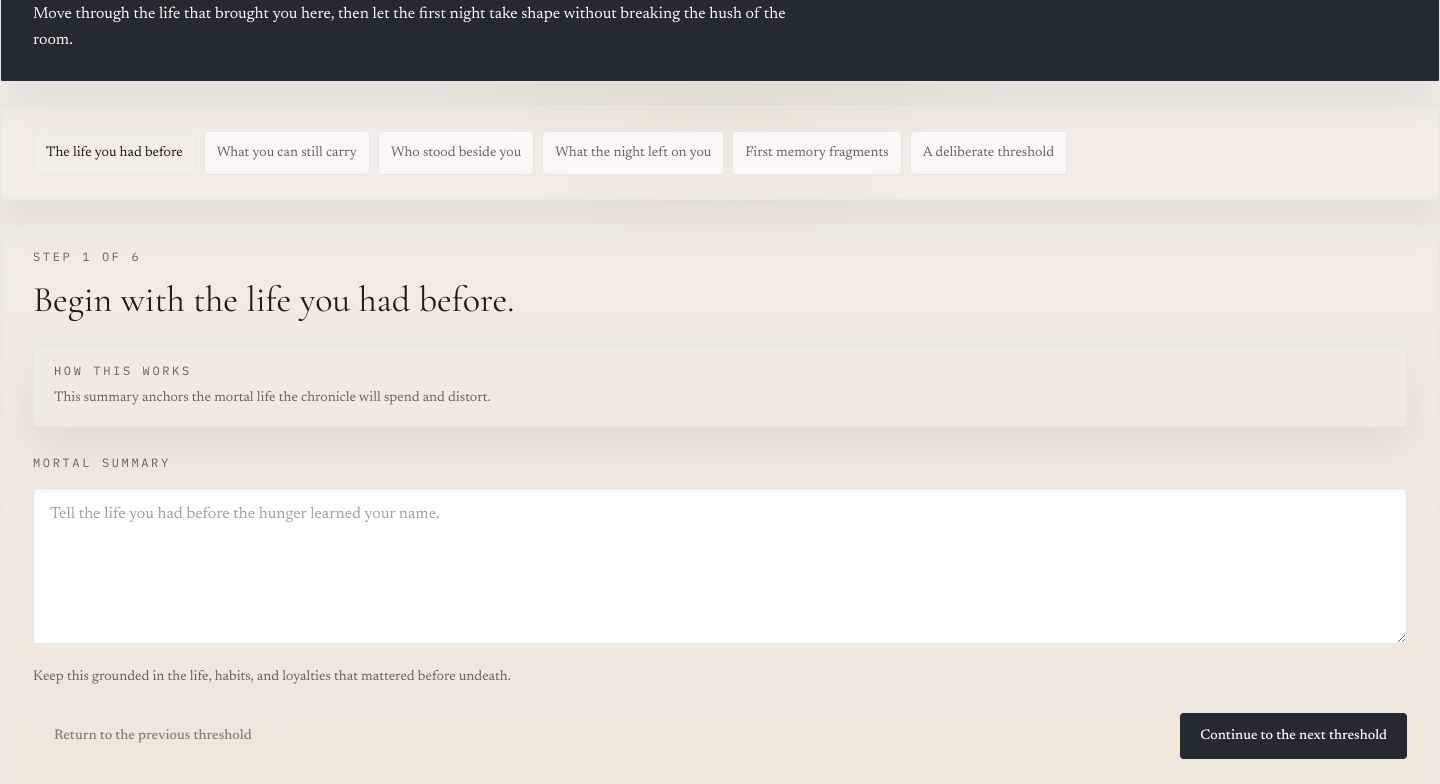
Test: guided setup flow › renders rules guidance inside the setup thresholds
The image size is (1440, 784).
(page scrolled)
expect the text "How this works" is shown: met, box [54,363,192,378]
expect the text "This summary anchors the mortal life the chronicle will spend and distort." is shown: met, box [54,391,491,405]
Click the button "Continue to the next threshold" at [1294, 736], box [1180,713,1407,759]
(page scrolled)
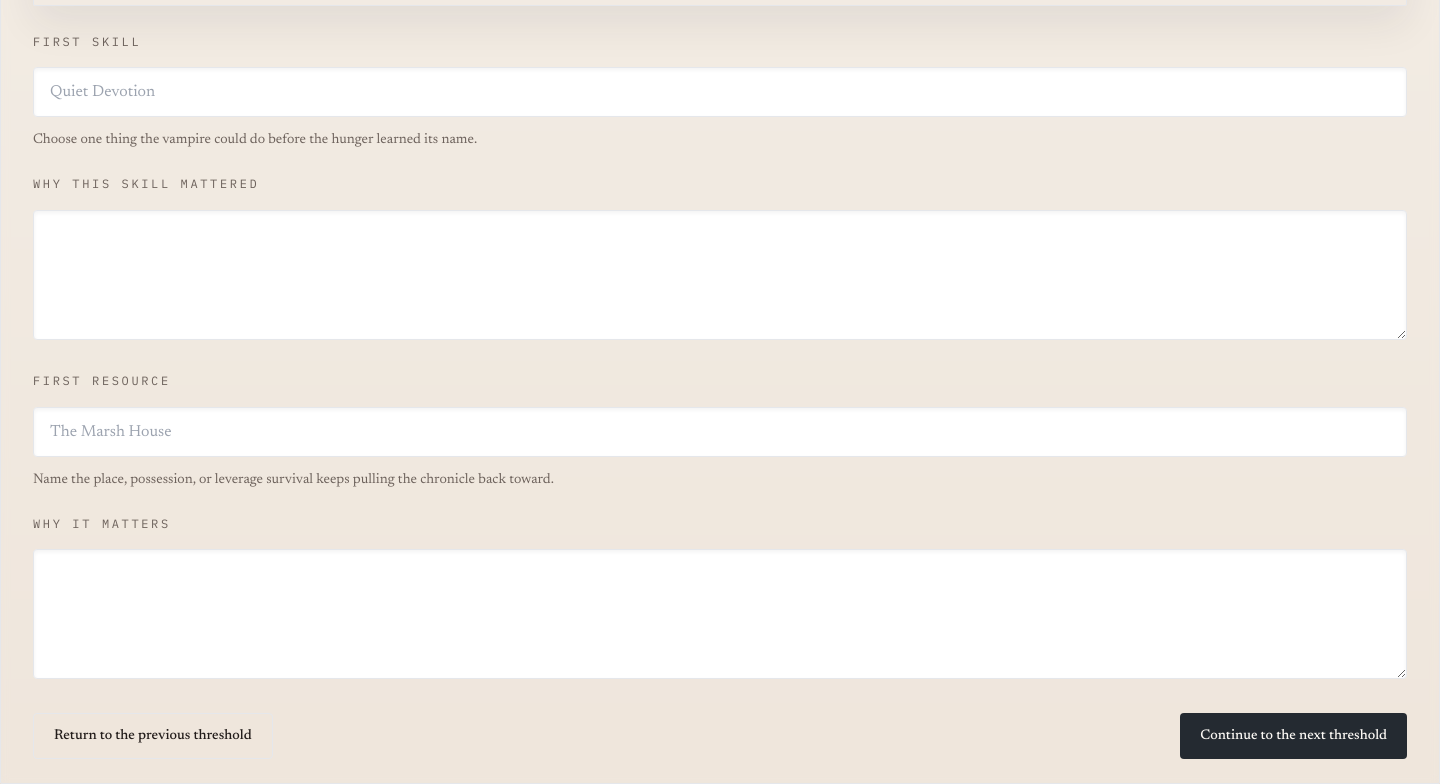
expect the text "Choose one thing the vampire could do before the hunger learned its name." is shown: met, box [33,133,477,147]
Click the button "Continue to the next threshold" at [1294, 736], box [1180,713,1407,759]
(page scrolled)
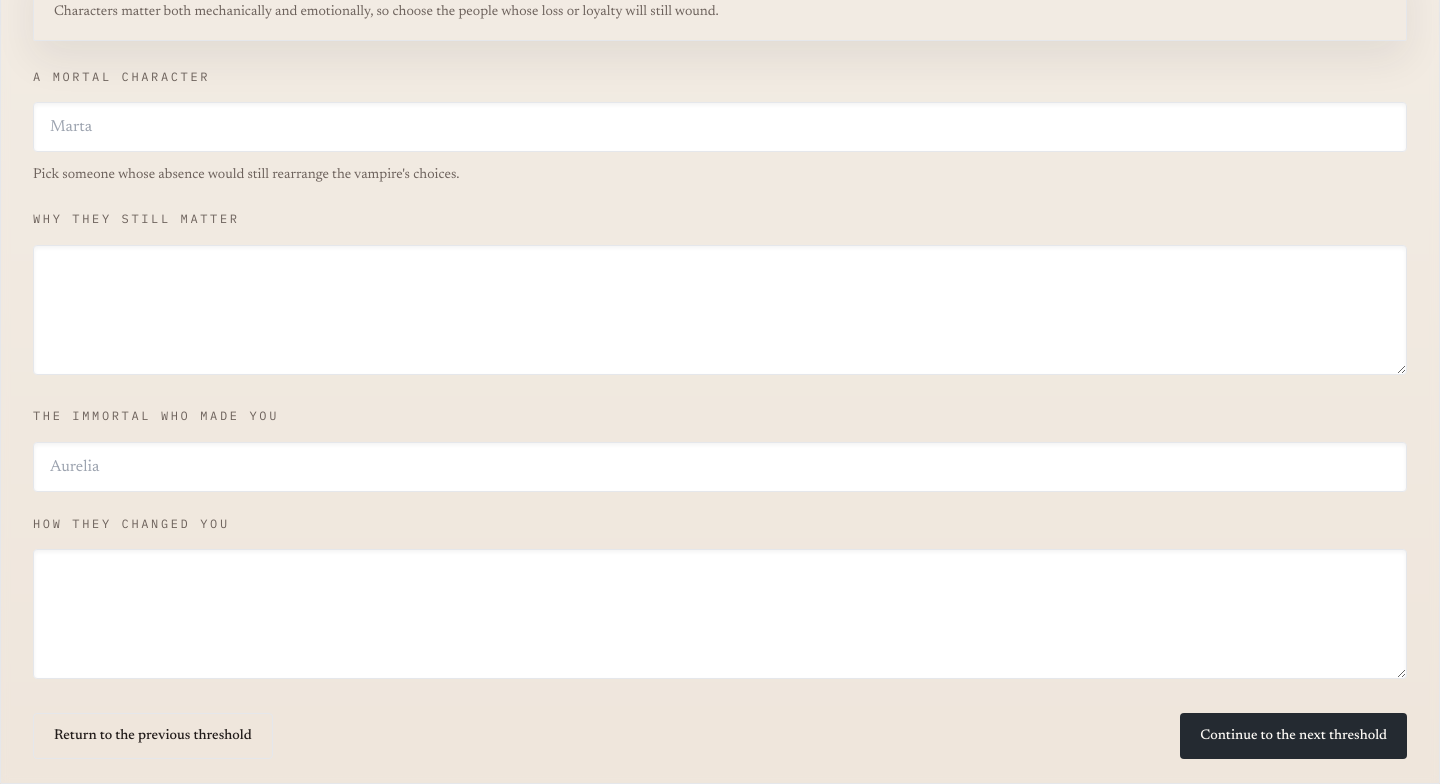
Click the button "Continue to the next threshold" at [1294, 736], box [1180,713,1407,759]
(page scrolled)
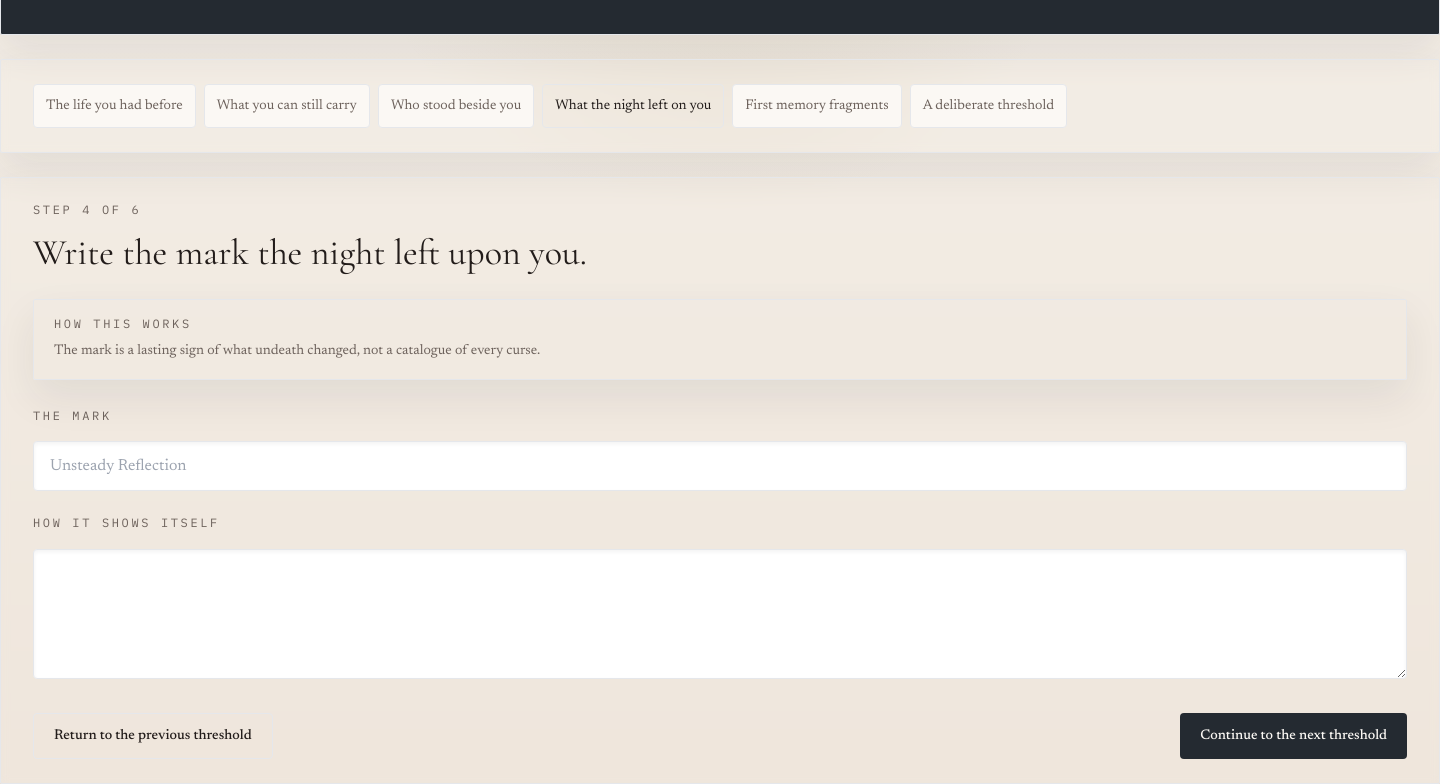
Click the button "Continue to the next threshold" at [1294, 736], box [1180,712,1407,758]
(page scrolled)
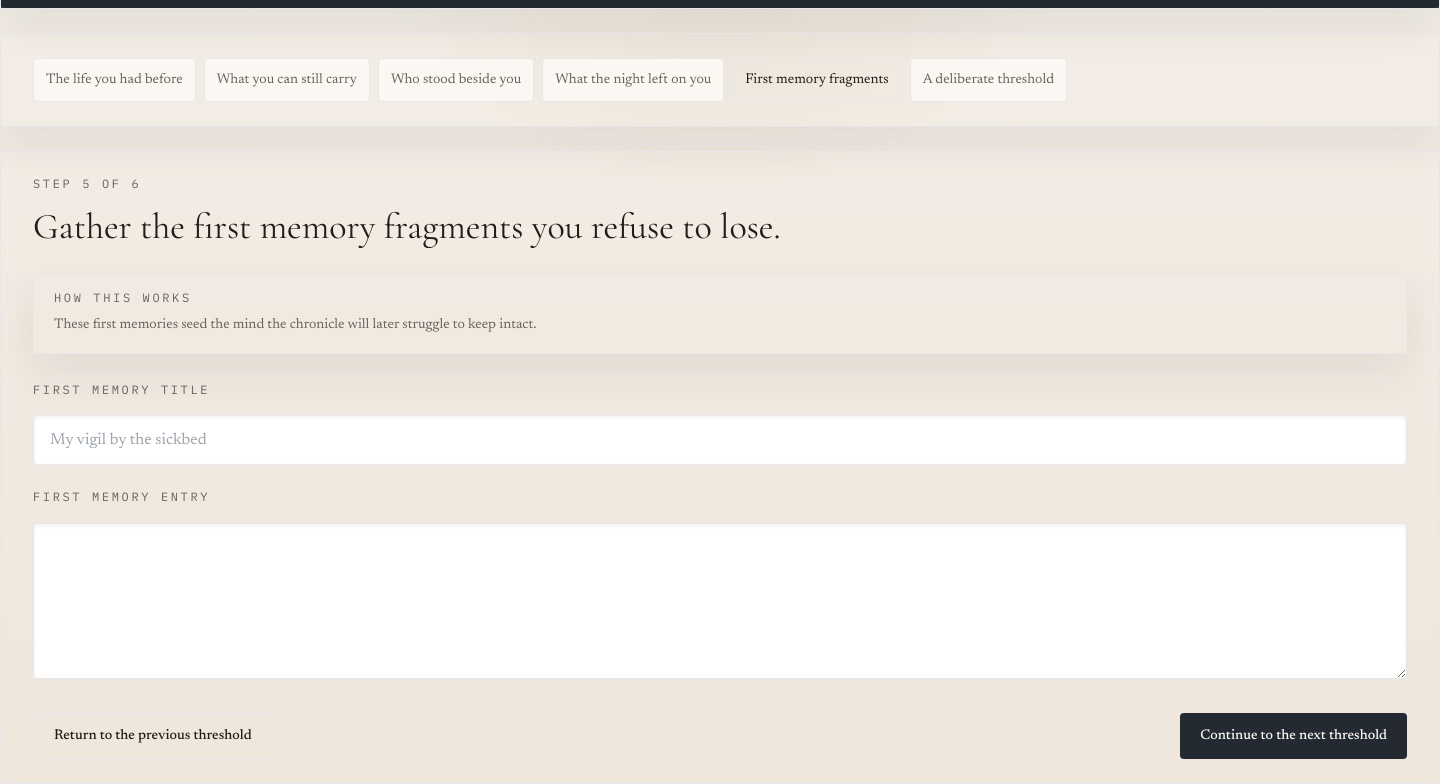
expect the text "These first memories seed the mind the chronicle will later struggle to keep intact." is shown: met, box [54,318,536,332]
